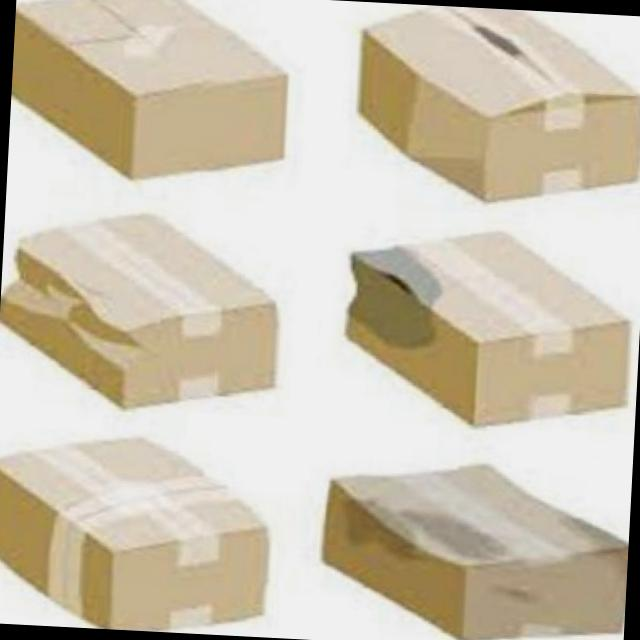box: (335, 216, 640, 443), (0, 203, 294, 420), (309, 448, 632, 640), (0, 424, 285, 638), (348, 1, 640, 207), (7, 0, 307, 189)
